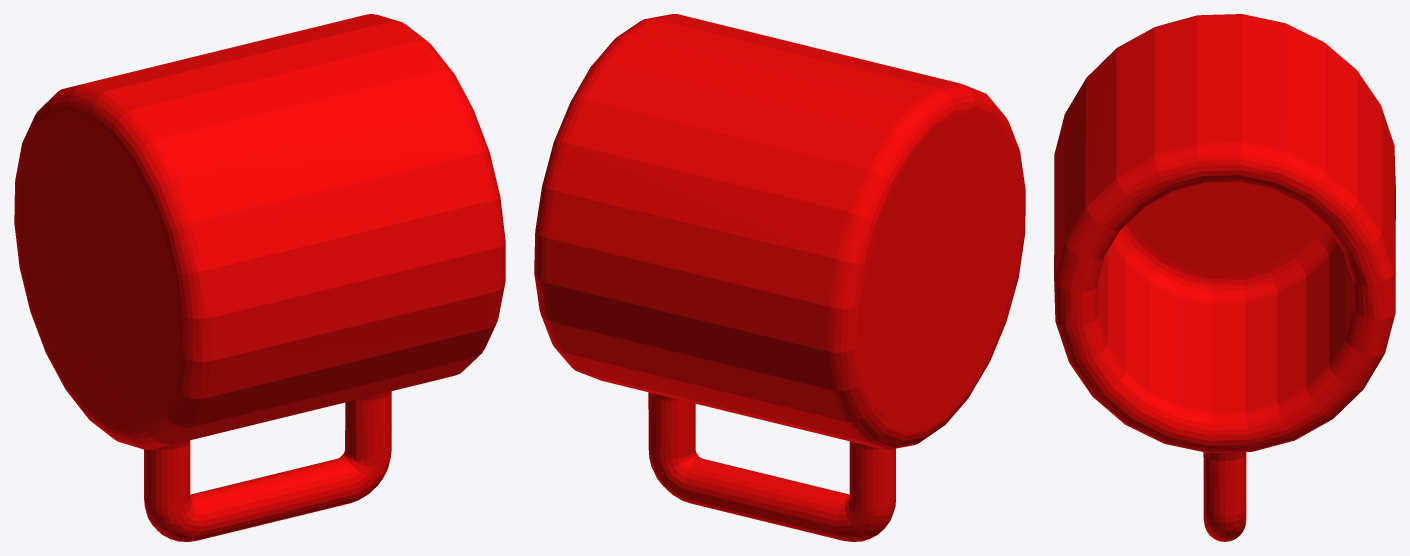
3 renders of one model, left to right at view 1: azimuth 30°, elevation 25°; view 2: azimuth 150°, elevation 25°; view 3: azimuth 270°, elevation 25°, orthographic. The views are drawn at different scales.
Visible parts, largest first — view 1: Renderer Node; view 2: Renderer Node; view 3: Renderer Node.
Boxes of the visible parts, x1,y1,x2,y2 form: Renderer Node: (14,14,505,541); Renderer Node: (534,14,1025,541); Renderer Node: (1054,14,1395,541).
Bounding box in the file's own units: 0.51 × 0.6942 × 0.5103.
Materials: 1 (1 with a texture image).
